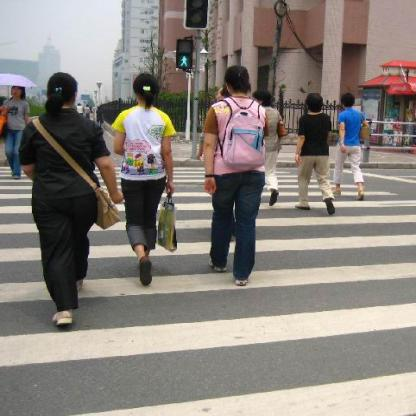person: (20, 69, 115, 327), (109, 62, 181, 285), (194, 60, 264, 288), (294, 90, 344, 216), (335, 93, 367, 204)
